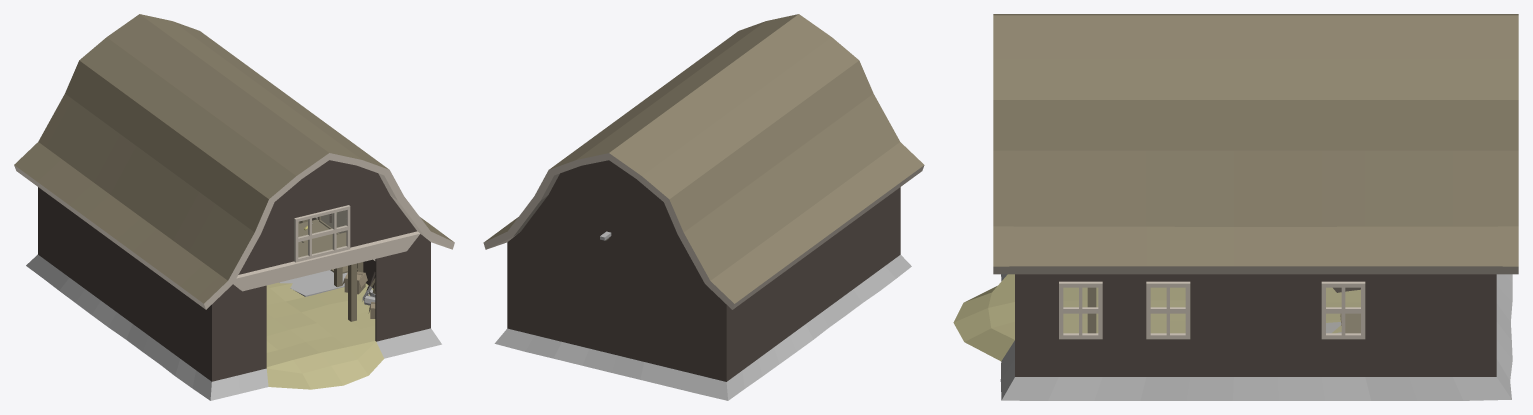
File: Barn.fbx
The picture shows the model from 3 angles, left to right: view 1: azimuth 30°, elevation 25°; view 2: azimuth 150°, elevation 25°; view 3: azimuth 270°, elevation 25°; orthographic projection. The views are drawn at different scales.
Parts seen in each view (by area): view 1: Barn2; view 2: Barn2; view 3: Barn2.
Boxes of the visible parts, box(x1,y1,x2,y2) form: Barn2: box(14, 14, 454, 400); Barn2: box(483, 14, 924, 400); Barn2: box(953, 14, 1518, 400).
Size of the model in its own units: 18.33 by 15.5 by 25.82.
